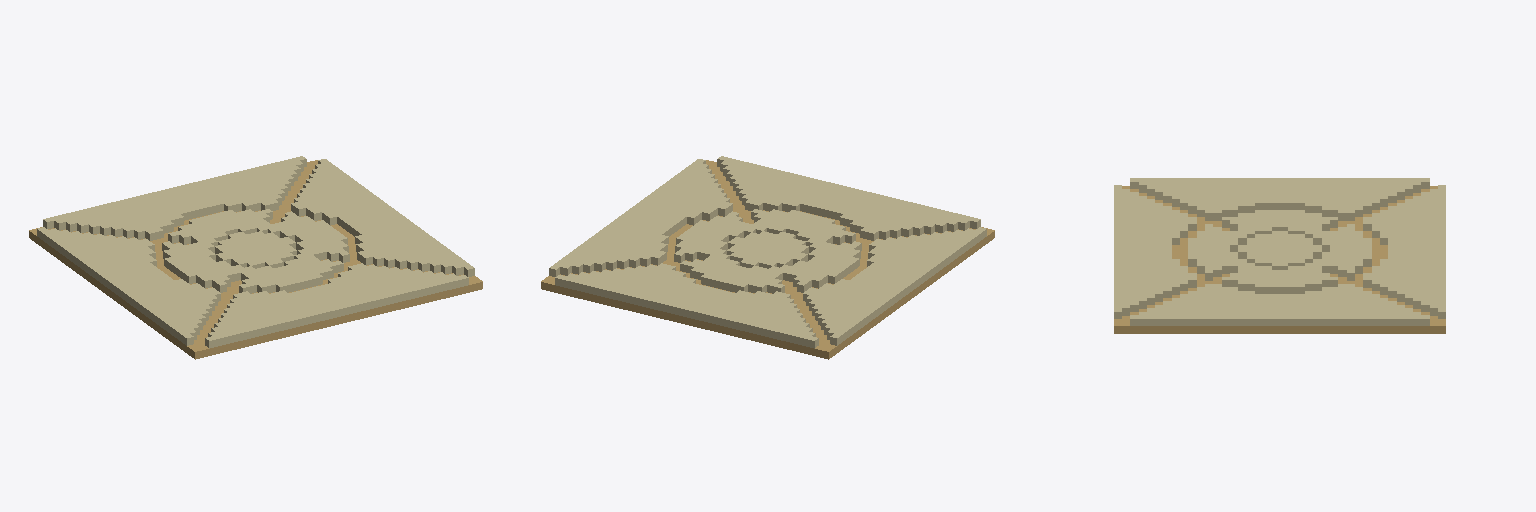
3 renders of one model, left to right at view 1: azimuth 30°, elevation 25°; view 2: azimuth 150°, elevation 25°; view 3: azimuth 270°, elevation 25°, orthographic.
Parts seen in each view (by area): view 1: object 1; view 2: object 1; view 3: object 1.
Boxes of the visible parts, <box> form: object 1: <box>29,156,482,359</box>; object 1: <box>541,156,994,359</box>; object 1: <box>1114,178,1445,333</box>.
Bounding box in the file's own units: 4 × 0.2 × 4.
Materials: 1 (1 with a texture image).